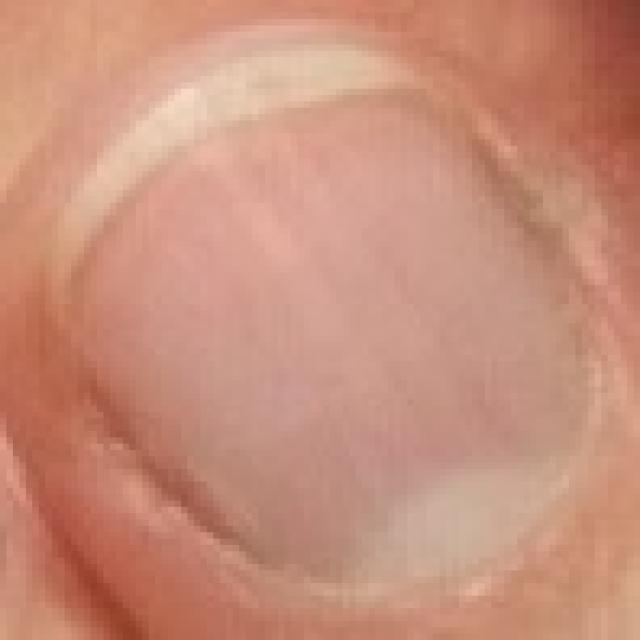Nail: (46, 47, 594, 585)
